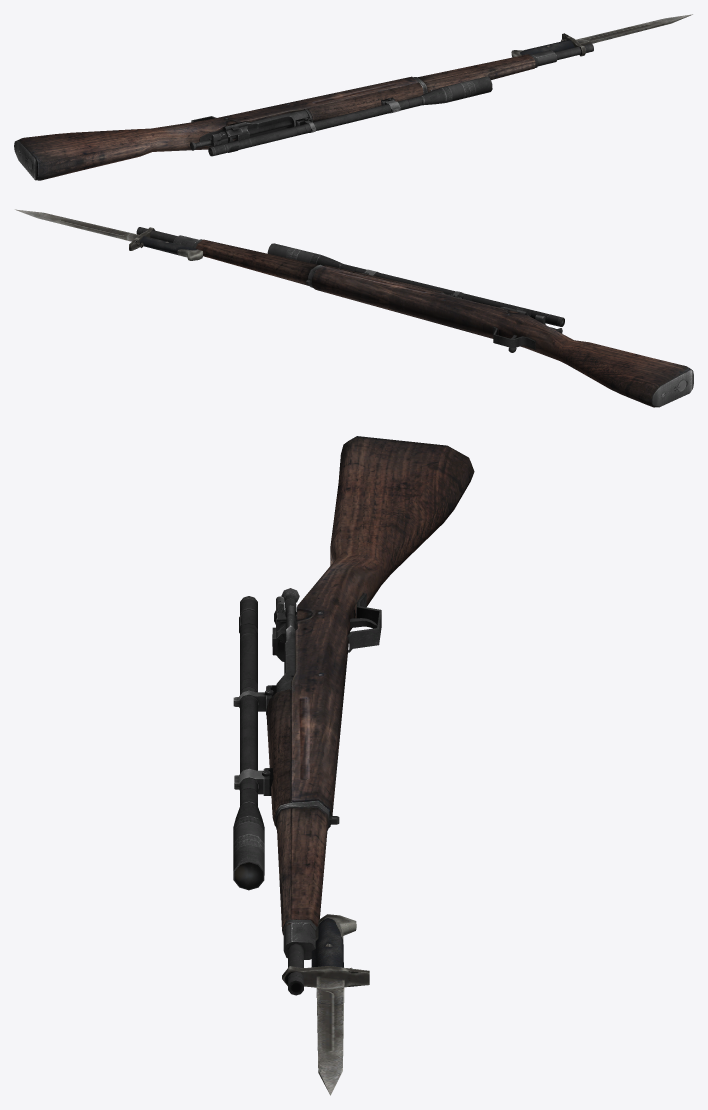
Rendered from weapon_usa_springfield_rifle_scoped_bayonet_LOD01.obj.
3 views of the same model, one above another, from view 1: azimuth 30°, elevation 25°; view 2: azimuth 150°, elevation 25°; view 3: azimuth 270°, elevation 25° (orthographic). The views are drawn at different scales.
Parts seen in each view (by area): view 1: TomGroup_0, TomGroup_2, TomGroup_1; view 2: TomGroup_0, TomGroup_2, TomGroup_1; view 3: TomGroup_0, TomGroup_2, TomGroup_1.
Boxes of the visible parts, bbox=[...] form: TomGroup_0: bbox=[14, 43, 593, 180]; TomGroup_2: bbox=[208, 76, 492, 156]; TomGroup_1: bbox=[511, 14, 692, 57]; TomGroup_0: bbox=[136, 227, 693, 407]; TomGroup_2: bbox=[267, 243, 564, 326]; TomGroup_1: bbox=[15, 209, 203, 260]; TomGroup_0: bbox=[266, 436, 474, 995]; TomGroup_2: bbox=[233, 596, 276, 890]; TomGroup_1: bbox=[282, 914, 369, 1095].
Size of the model in its own units: 153 by 7.86 by 24.4.
Materials: 4 (4 with a texture image).
